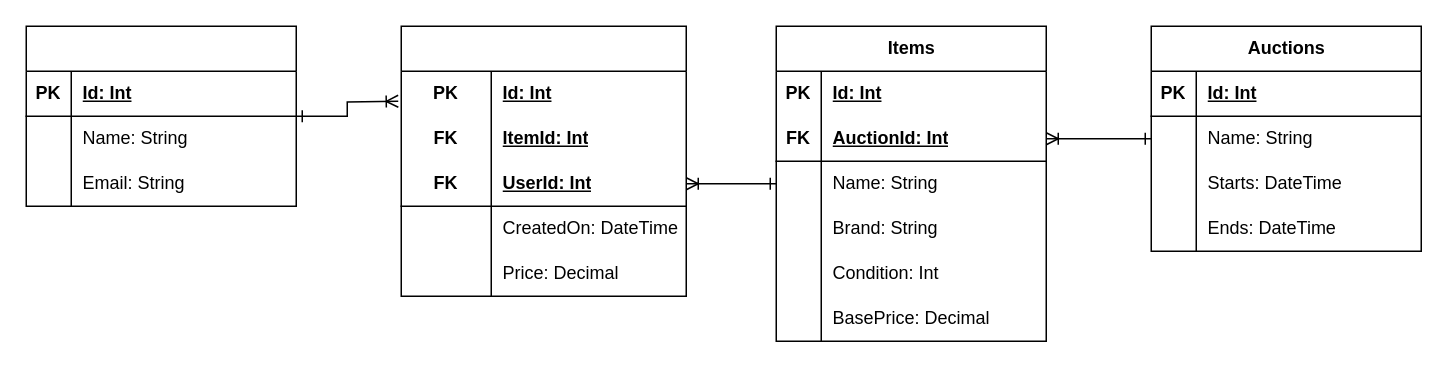
Some shapes in this 1448 by 368 pixel diagram are drawn without their labels. Each missing label, with the box of its shape:
Offers: (400, 25, 686, 296)
Users: (25, 25, 296, 206)
